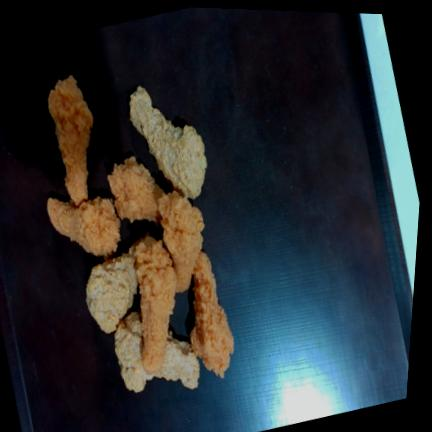chicken: (129, 85, 207, 198), (115, 311, 199, 392), (48, 74, 93, 204), (135, 234, 176, 373), (190, 250, 233, 377), (158, 191, 204, 291), (86, 245, 138, 332), (47, 196, 120, 256), (108, 156, 164, 222)
